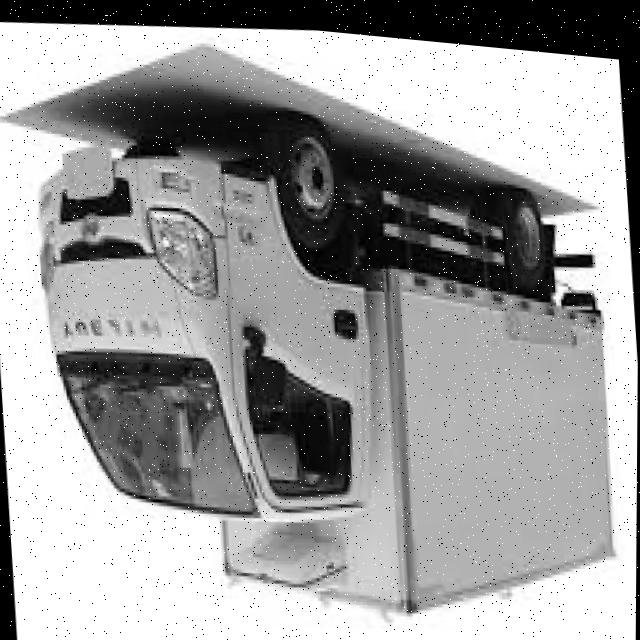truck: (11, 56, 421, 581)
